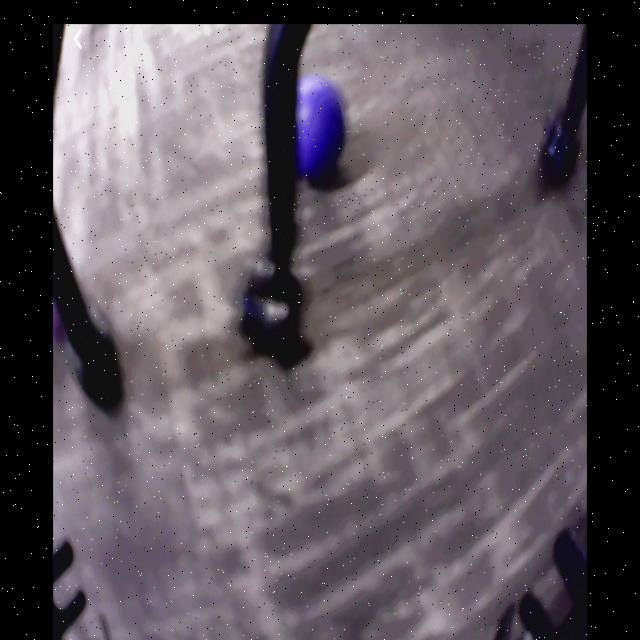ball: (297, 81, 349, 183)
